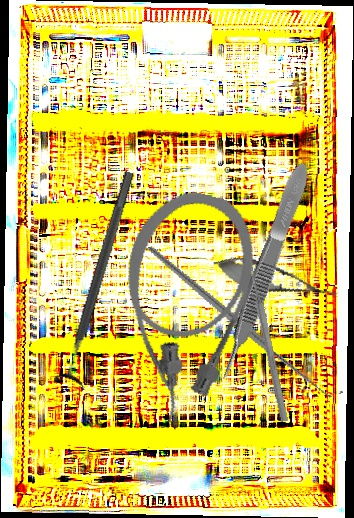Cannula: (90, 179, 271, 434)
Fixation Ring: (51, 167, 147, 391)
Hook Surgical: (145, 201, 344, 440)
Micro Scissor: (209, 248, 344, 311)
Pusher: (244, 256, 291, 423)
Tissue Forceps: (211, 160, 316, 383)
